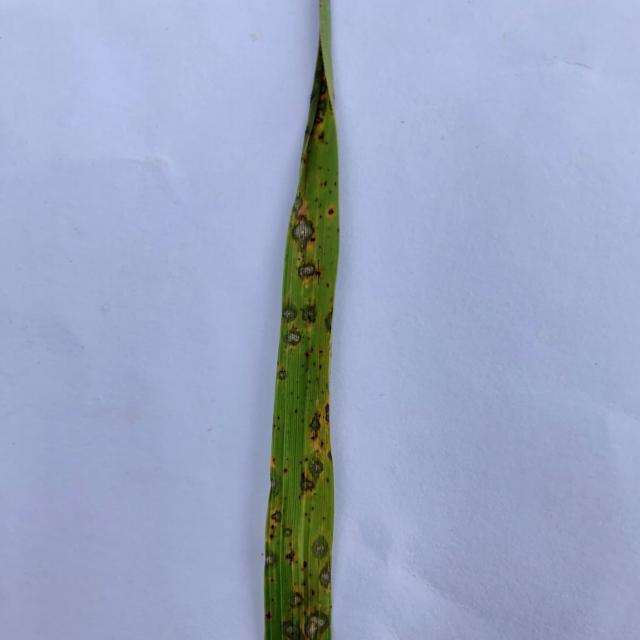leaf blast: (290, 212, 321, 258), (313, 60, 327, 147), (302, 608, 330, 640), (293, 258, 323, 287), (304, 405, 326, 443), (281, 320, 306, 351), (298, 296, 322, 328), (296, 472, 320, 503), (306, 532, 330, 563), (306, 451, 326, 484), (278, 614, 303, 640), (279, 297, 300, 326), (287, 193, 311, 217), (285, 588, 305, 613), (315, 564, 332, 592), (320, 310, 334, 338), (265, 545, 281, 569), (269, 471, 282, 498), (278, 522, 296, 540), (268, 508, 287, 525), (274, 365, 290, 385)
